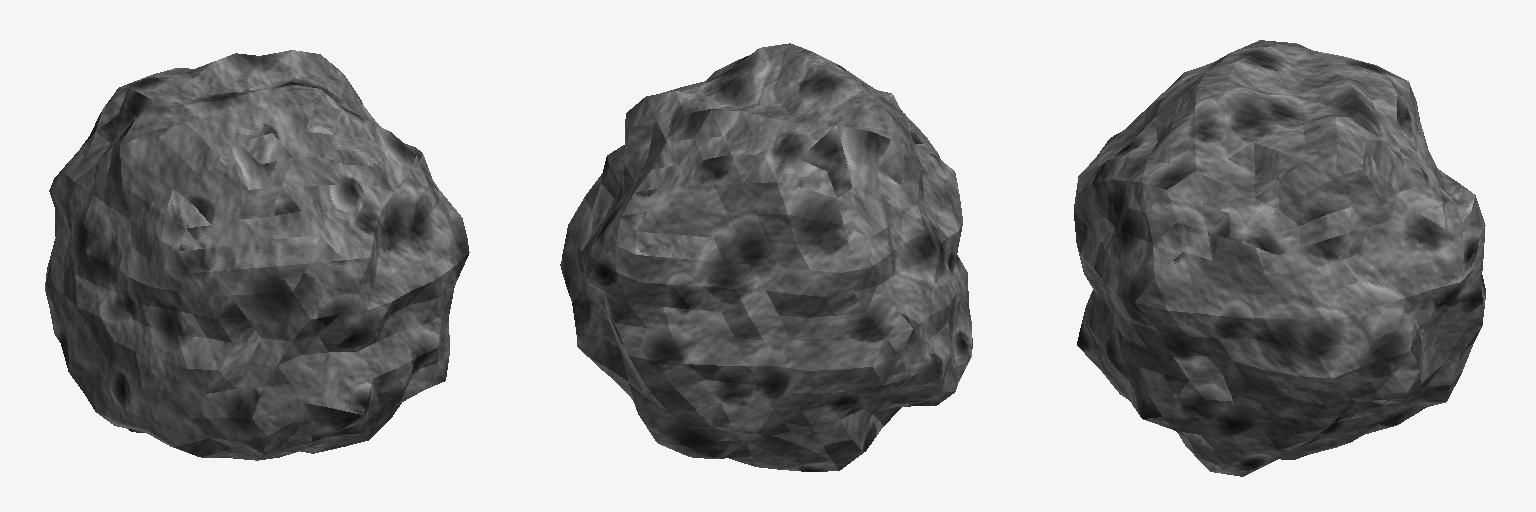
The picture shows the model from 3 angles: view 1: azimuth 30°, elevation 25°; view 2: azimuth 150°, elevation 25°; view 3: azimuth 270°, elevation 25°; orthographic projection.
Parts seen in each view (by area): view 1: asteroid_large; view 2: asteroid_large; view 3: asteroid_large.
Boxes of the visible parts, x1=… form: asteroid_large: x1=45, y1=50, x2=469, y2=460; asteroid_large: x1=560, y1=43, x2=972, y2=471; asteroid_large: x1=1074, y1=40, x2=1485, y2=476.
Bounding box in the file's own units: 8.39 × 8.23 × 8.26.
1 materials, 1 textured.